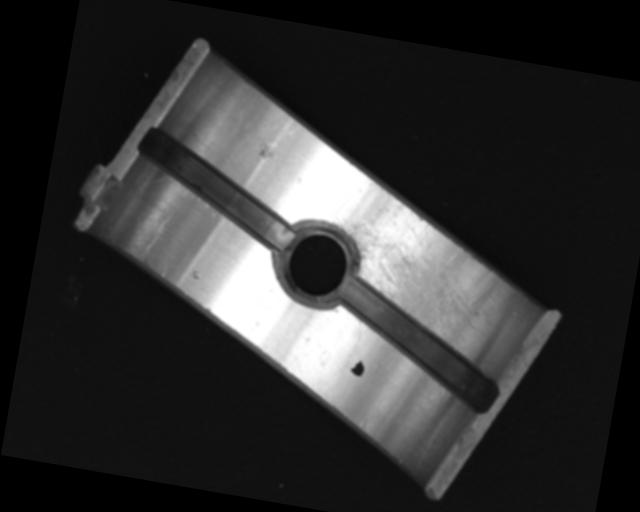blot: (348, 357, 366, 378)
bruise: (257, 139, 276, 162), (190, 268, 202, 280)
gap: (325, 275, 513, 414), (125, 125, 308, 251)
hole: (272, 213, 363, 313)
nick: (134, 210, 170, 264)
scratch: (316, 178, 500, 347)
